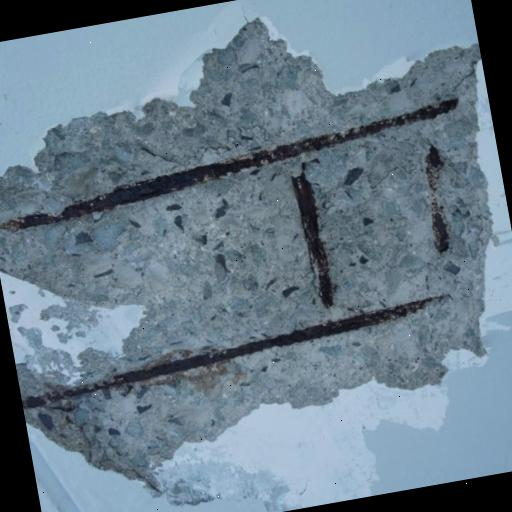spalling: (0, 18, 493, 505)
